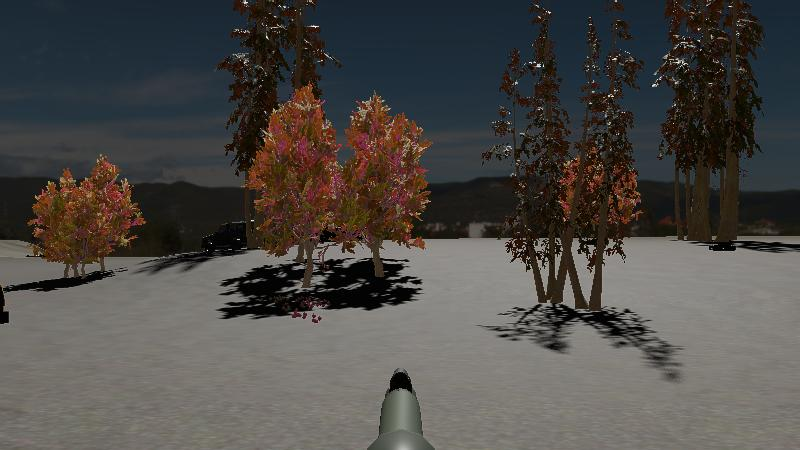car: (199, 217, 265, 256)
